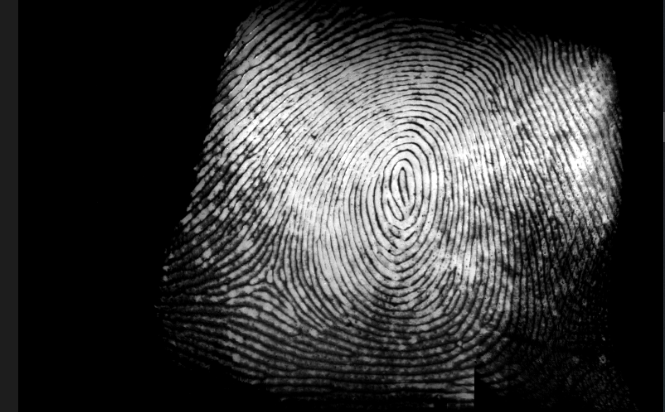deltas: (521, 302, 584, 355), (241, 245, 295, 299)
nucleo: (380, 143, 426, 204)
